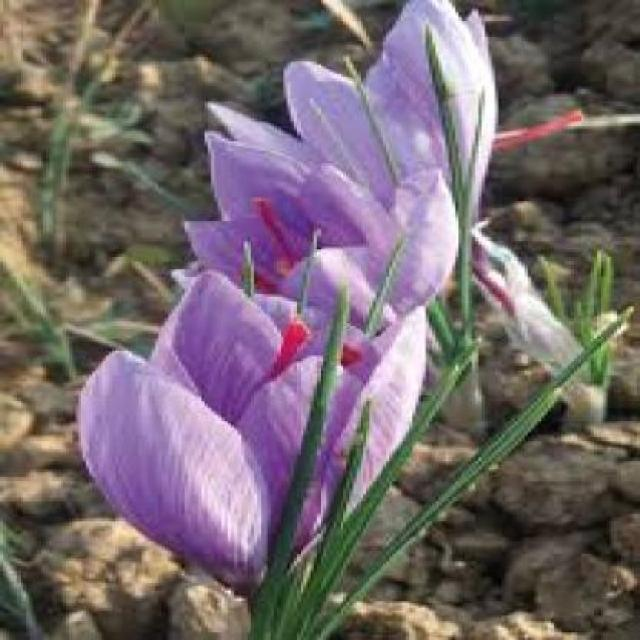saffron open: (79, 270, 426, 591), (186, 104, 458, 333), (288, 0, 498, 227)
